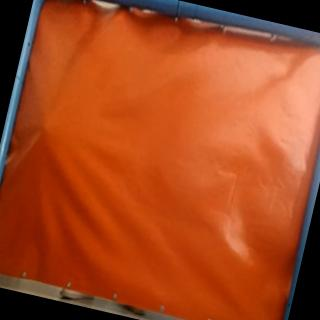Hit-hRxx: (36, 113, 52, 134)
